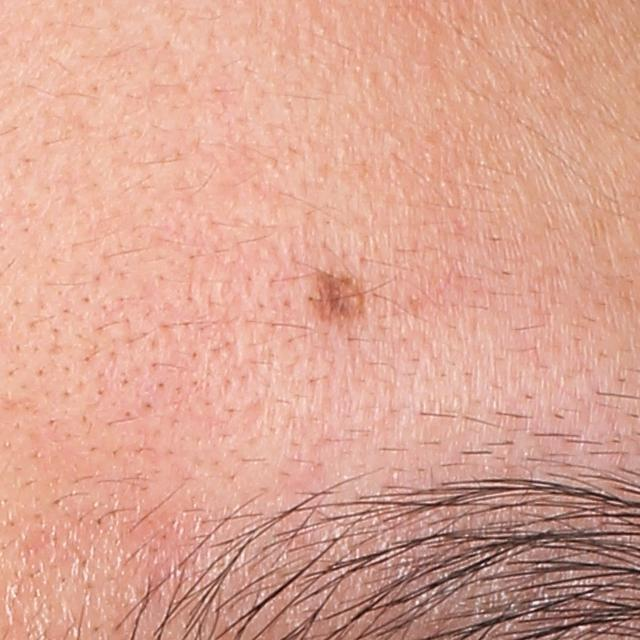nevus: (306, 267, 374, 329)
